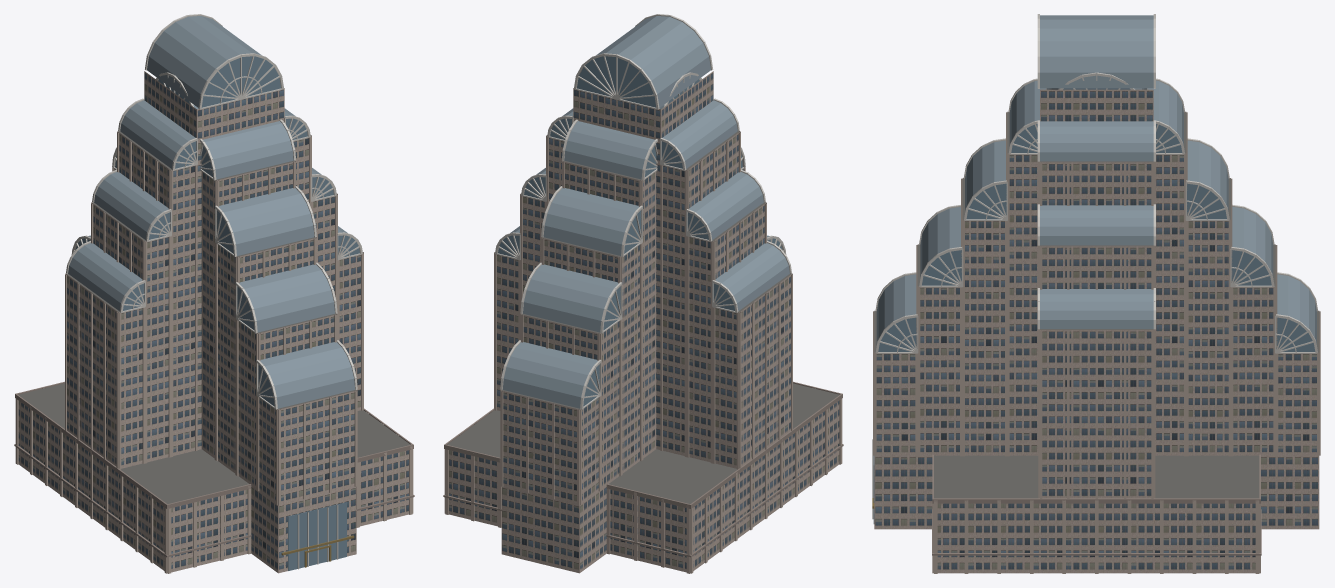
File: marriott_marquis.glb
3 renders of one model, left to right at view 1: azimuth 30°, elevation 25°; view 2: azimuth 150°, elevation 25°; view 3: azimuth 270°, elevation 25°, orthographic. The views are drawn at different scales.
Visible parts, largest first — view 1: marriott_marquis; view 2: marriott_marquis; view 3: marriott_marquis.
Part boxes in pixels (x1,y1,x2,y2): marriott_marquis: [14, 14, 414, 573]; marriott_marquis: [443, 14, 843, 573]; marriott_marquis: [872, 14, 1320, 573].
Size of the model in its own units: 76.01 by 133 by 110.
Materials: 2 (2 with a texture image).
